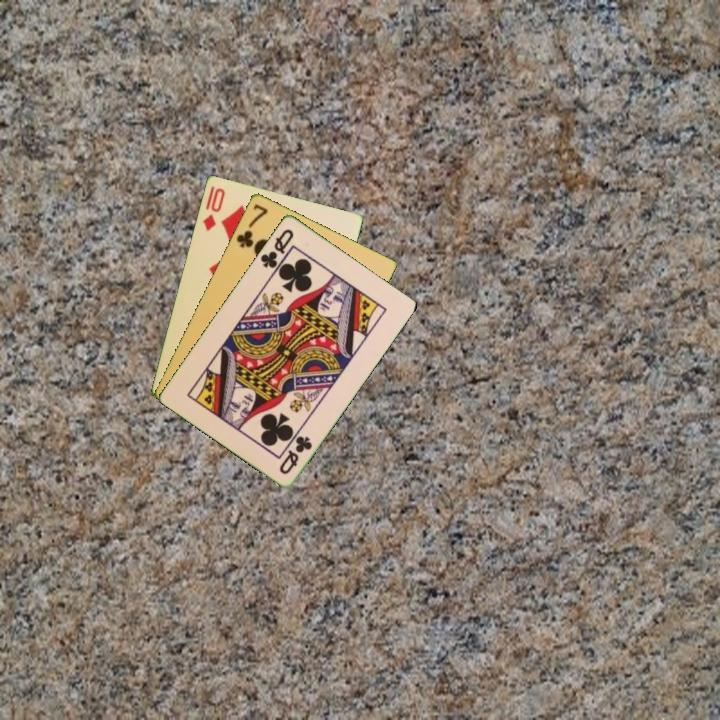10d: (199, 182, 228, 234)
7c: (232, 200, 271, 250)
Qc: (257, 225, 297, 271), (275, 432, 315, 477)
